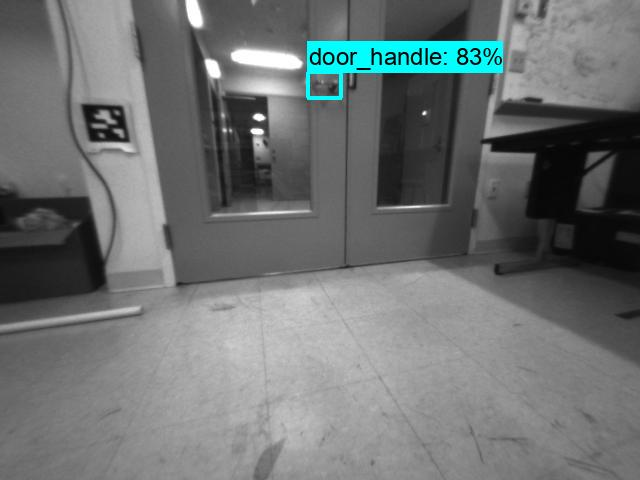door_handle: (309, 74, 341, 98)
